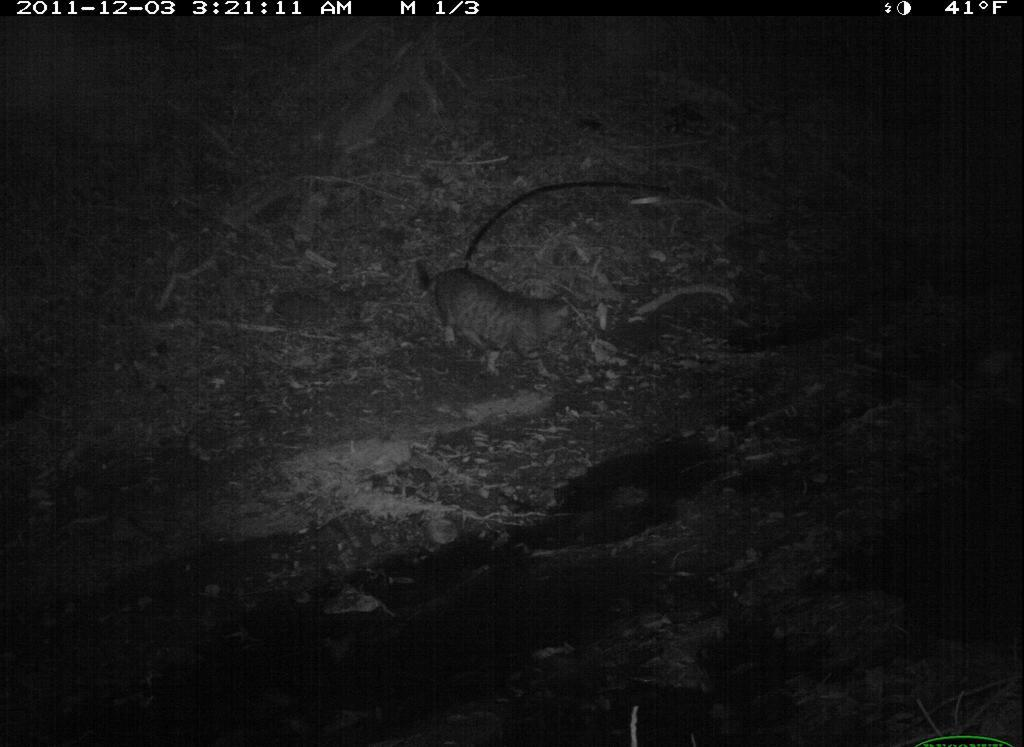cat: (405, 242, 604, 397)
